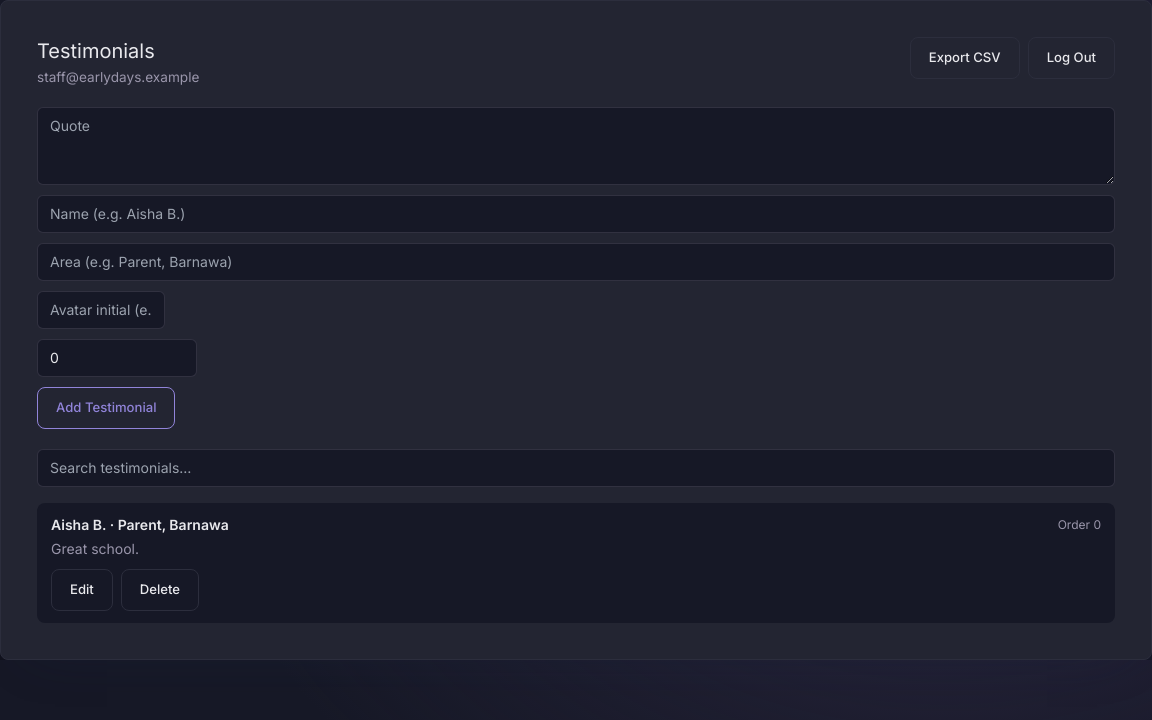
Scenario: AdminTestimonialsPanel › deletes a testimonial via the delete button
Expected: the text "Aisha B. · Parent, Barnawa" is shown, x1=51 y1=515 x2=229 y2=535
Click the button "Delete": (160, 590) x1=121 y1=569 x2=199 y2=611
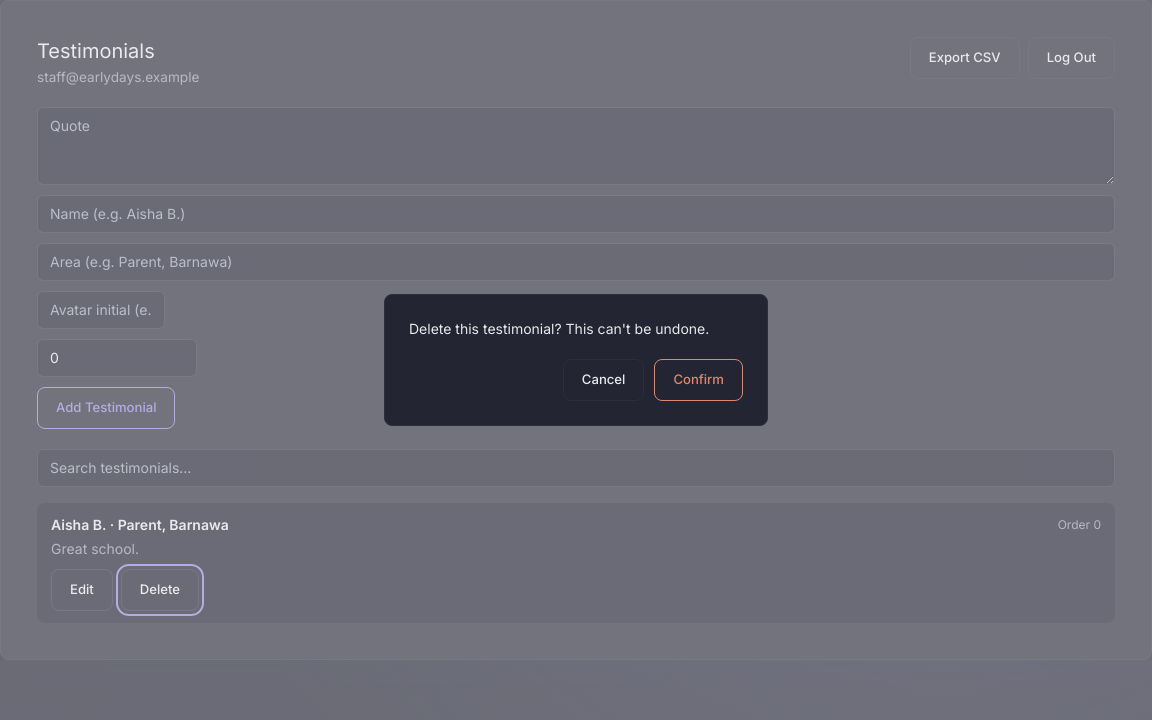
Click the button "Confirm": (699, 380) x1=654 y1=359 x2=743 y2=401
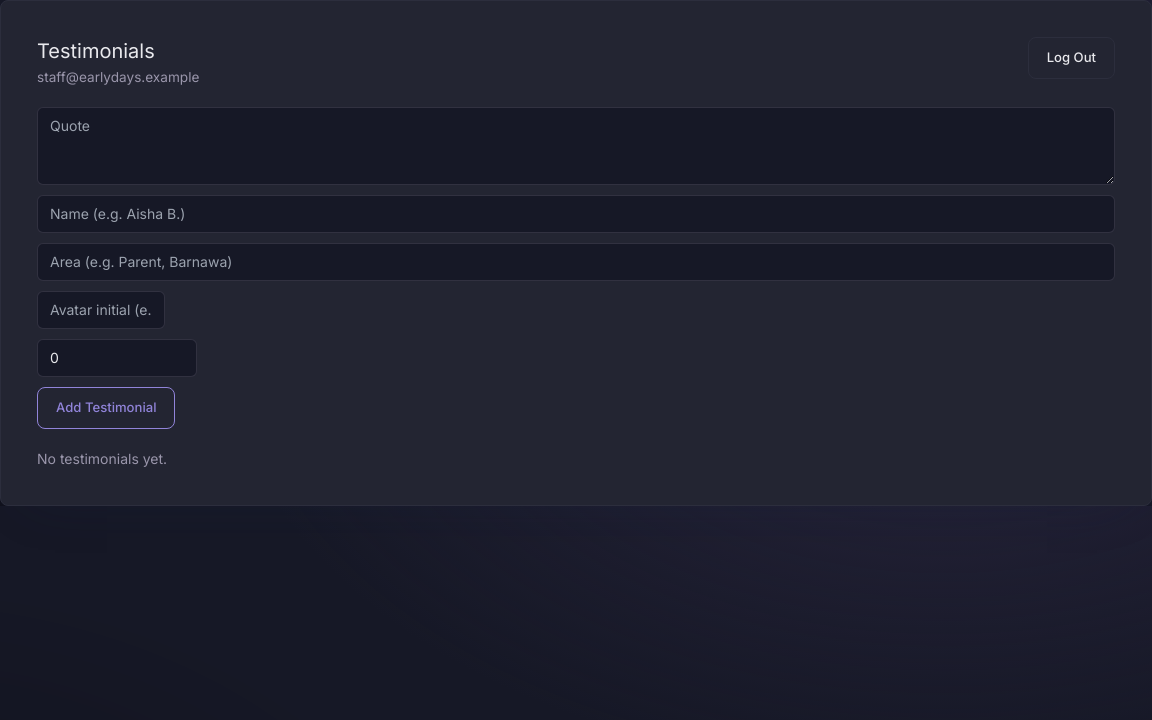
Result: the text "Aisha B. · Parent, Barnawa" is gone
